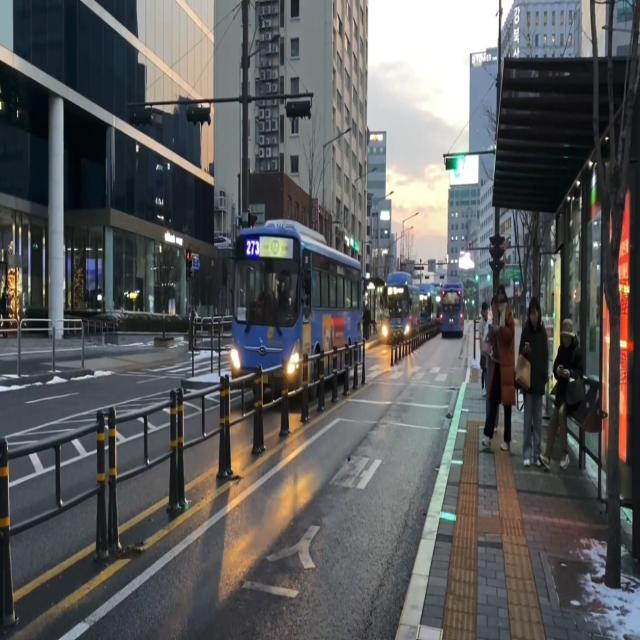bus-number: (246, 240, 259, 256)
